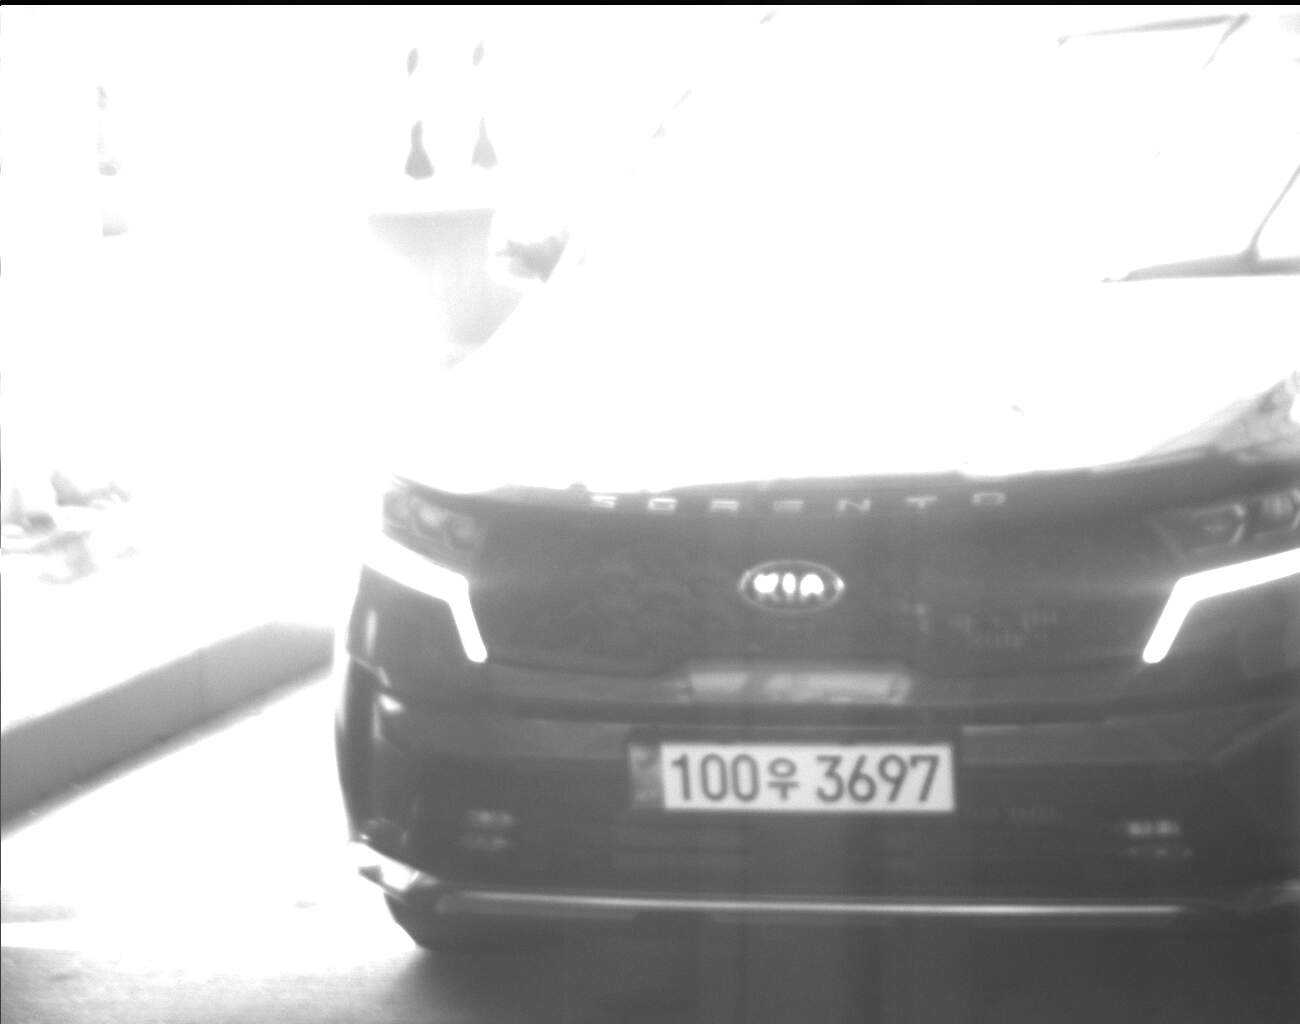car: (329, 10, 1297, 967)
plate: (619, 736, 957, 815)
